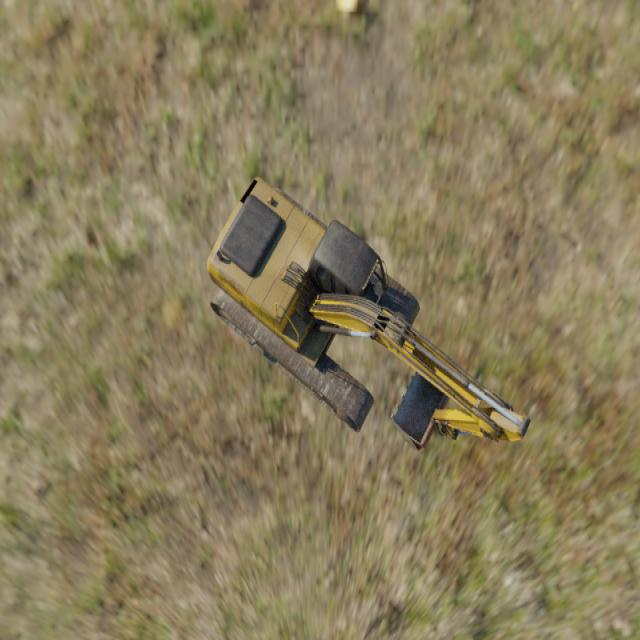excavator: (206, 176, 531, 452)
